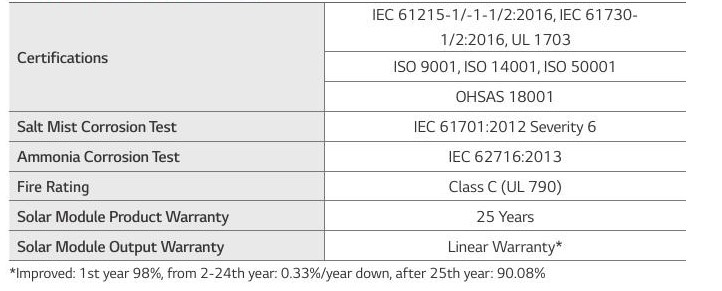table: (1, 1, 714, 267)
table column: (330, 2, 686, 258), (9, 2, 321, 264)
table row: (5, 5, 689, 46), (3, 174, 695, 199), (2, 84, 692, 109), (4, 115, 693, 140), (3, 204, 697, 228), (3, 55, 691, 78), (3, 234, 699, 256), (3, 147, 697, 169)
table spanning cell: (4, 2, 322, 112)
